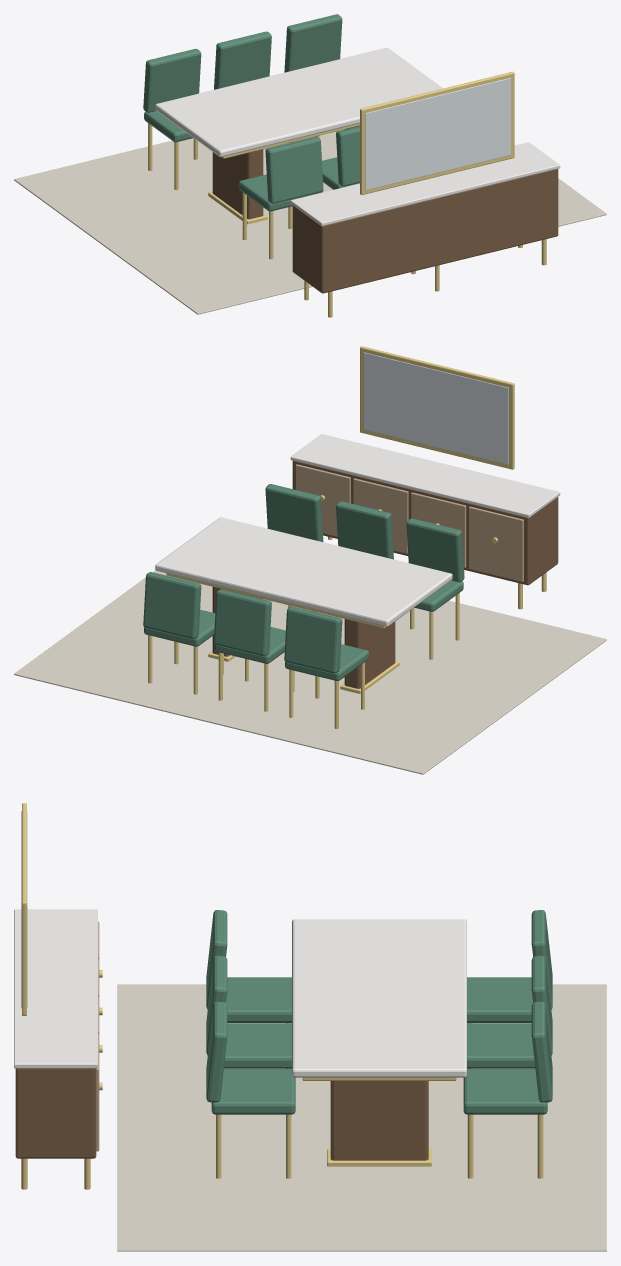
File: yemek-odasi-tam-takim.glb
3 renders of one model, top to bottom at view 1: azimuth 30°, elevation 25°; view 2: azimuth 150°, elevation 25°; view 3: azimuth 270°, elevation 25°, orthographic. The views are drawn at different scales.
Parts seen in each view (by area): view 1: Room_Rug, Con_Body, Table_Top, Con_Mirror_Glass, Con_Top, Chair_Back, Chair_Back.001, Chair_Back.005, Chair_Back.003, Con_Mirror_Frame, Table_Pedestal, Chair_Back.002 (+3 smaller); view 2: Room_Rug, Table_Top, Con_Mirror_Glass, Con_Top, Con_Body, Con_Door_0, Chair_Back.001, Chair_Back.005, Chair_Back.003, Chair_Back, Chair_Back.002, Chair_Back.004 (+10 smaller); view 3: Room_Rug, Table_Top, Con_Top, Table_Pedestal.001, Con_Body, Chair_Seat.005, Chair_Seat.004, Chair_Seat.003, Chair_Seat.002, Chair_Seat.001, Chair_Seat, Chair_Back.004 (+8 smaller).
Part boxes in pixels (x1,y1,x2,y2): Room_Rug: [14, 129, 606, 314]; Con_Body: [292, 169, 558, 293]; Table_Top: [155, 47, 442, 157]; Con_Mirror_Glass: [365, 78, 510, 190]; Con_Top: [290, 142, 560, 226]; Chair_Back: [265, 136, 323, 203]; Chair_Back.001: [143, 48, 201, 112]; Chair_Back.005: [284, 14, 342, 72]; Chair_Back.003: [214, 31, 271, 89]; Con_Mirror_Frame: [360, 71, 514, 194]; Table_Pedestal: [212, 149, 263, 219]; Chair_Back.002: [336, 126, 359, 186]; Room_Rug: [14, 570, 606, 774]; Table_Top: [155, 517, 452, 626]; Con_Mirror_Glass: [363, 352, 508, 464]; Con_Top: [290, 434, 560, 517]; Con_Body: [292, 460, 558, 585]; Con_Door_0: [468, 506, 523, 581]; Chair_Back.001: [284, 606, 342, 673]; Chair_Back.005: [143, 572, 201, 639]; Chair_Back.003: [214, 589, 271, 656]; Chair_Back: [406, 518, 464, 582]; Chair_Back.002: [336, 501, 393, 559]; Chair_Back.004: [265, 484, 323, 541]; Room_Rug: [117, 984, 606, 1251]; Table_Top: [292, 919, 466, 1077]; Con_Top: [14, 909, 97, 1068]; Table_Pedestal.001: [330, 1081, 428, 1160]; Con_Body: [15, 1068, 96, 1158]; Chair_Seat.005: [463, 1069, 547, 1114]; Chair_Seat.004: [211, 1069, 295, 1114]; Chair_Seat.003: [467, 1023, 535, 1068]; Chair_Seat.002: [224, 1023, 291, 1068]; Chair_Seat.001: [467, 977, 532, 1022]; Chair_Seat: [226, 977, 291, 1022]; Chair_Back.004: [206, 1001, 227, 1102].
Bounding box in the file's own units: 3.6 × 1.68 × 3.39.
